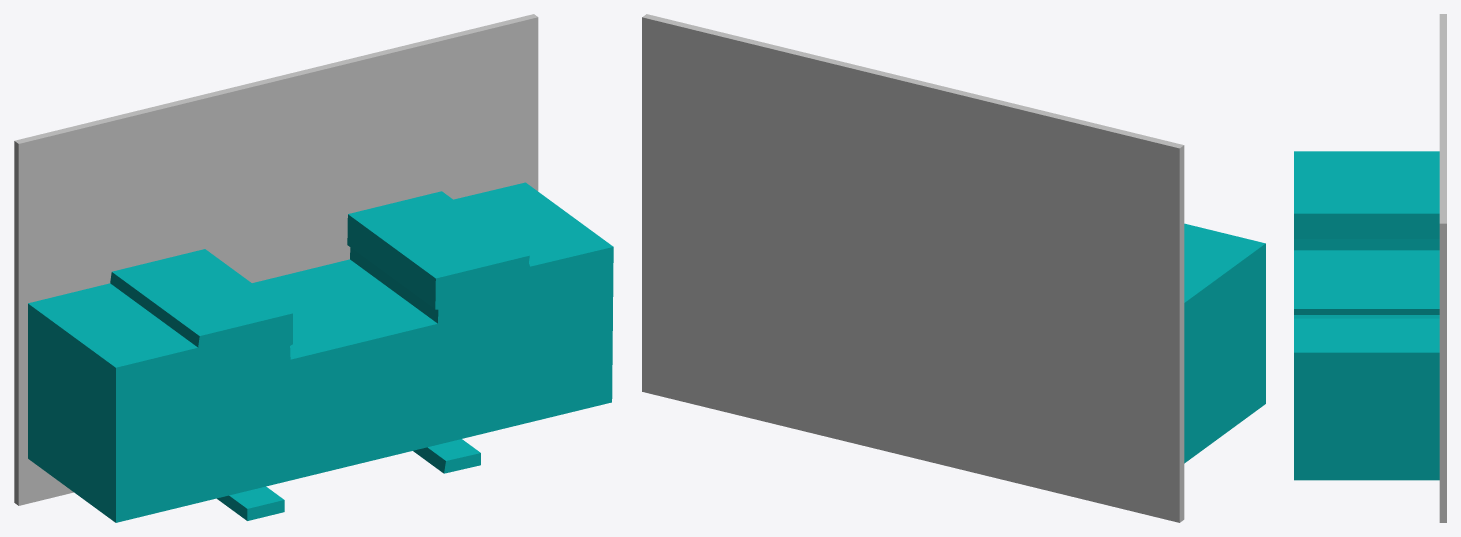
The picture shows the model from 3 angles, left to right: view 1: azimuth 30°, elevation 25°; view 2: azimuth 150°, elevation 25°; view 3: azimuth 270°, elevation 25°; orthographic projection. The views are drawn at different scales.
Visible parts, largest first — view 1: world; view 2: world; view 3: world.
Boxes of the visible parts, x1,y1,x2,y2 form: world: (14, 14, 613, 522); world: (642, 14, 1265, 522); world: (1294, 14, 1446, 522).
Size of the model in its own units: 10.23 by 6.81 by 3.15.
